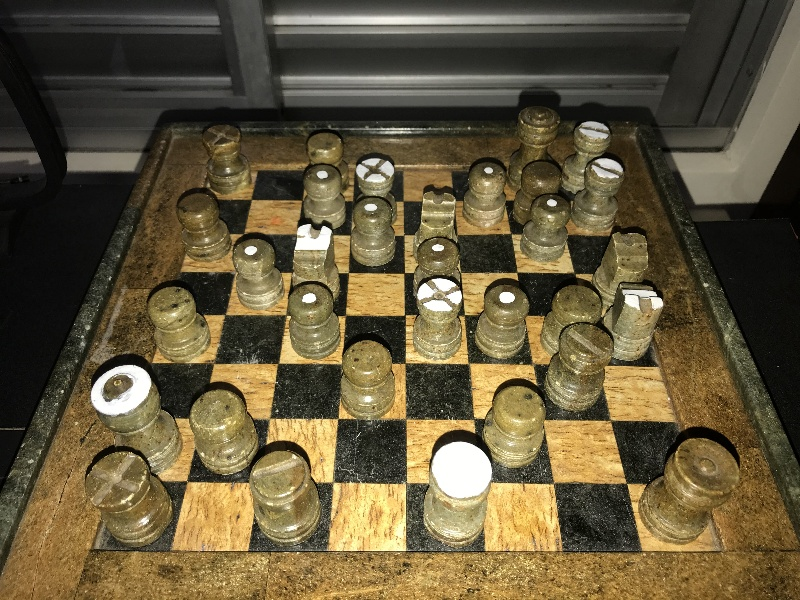WhiteBishop: (413, 278, 462, 359), (352, 157, 395, 208)
WhitePawn: (288, 282, 341, 358), (475, 284, 528, 358), (231, 239, 284, 307), (520, 194, 567, 262), (352, 196, 395, 266), (462, 161, 505, 226), (302, 164, 345, 228), (414, 237, 460, 293)
WhiteRook: (571, 156, 625, 228), (563, 119, 611, 176)
